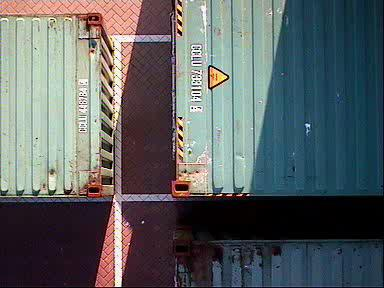groundmarker_2: (112, 173, 141, 229), (105, 34, 144, 61)
